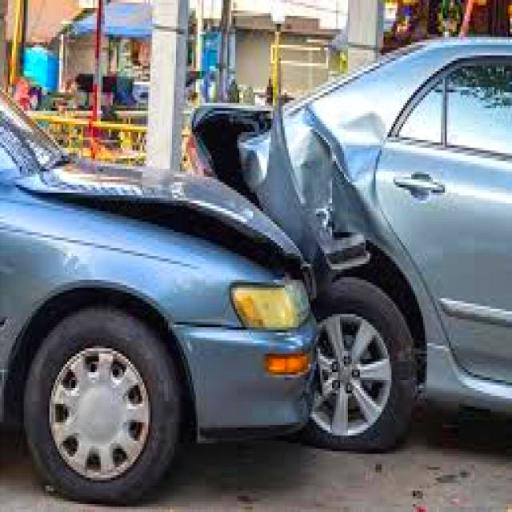小汽车撞小汽车: (2, 67, 512, 499)
